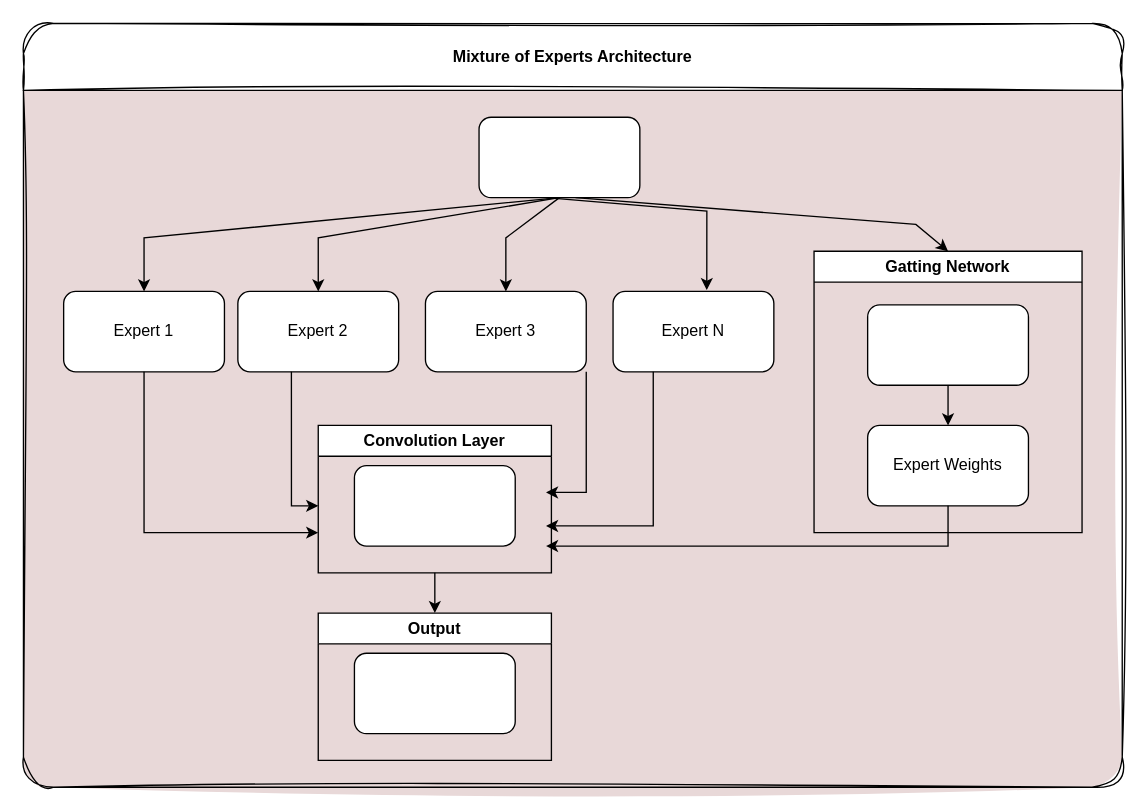
This 1146x811 diagram has some shape labels left out. Each missing label, with the centre of its shape:
"Final Prediction" belongs at pixel 434 693.
"MNIST Data" belongs at pixel 559 157.
"Router/Gate network /CNNs" belongs at pixel 947 344.
"Weighted Sum" belongs at pixel 434 505.
